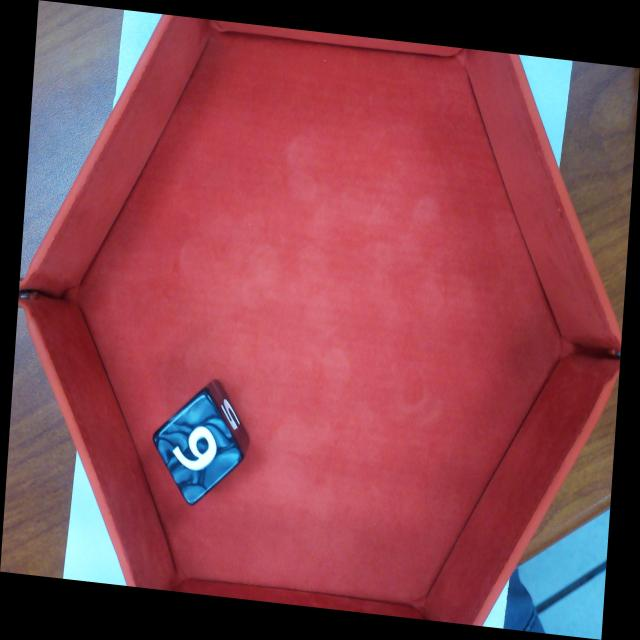dice: (150, 390, 246, 506)
